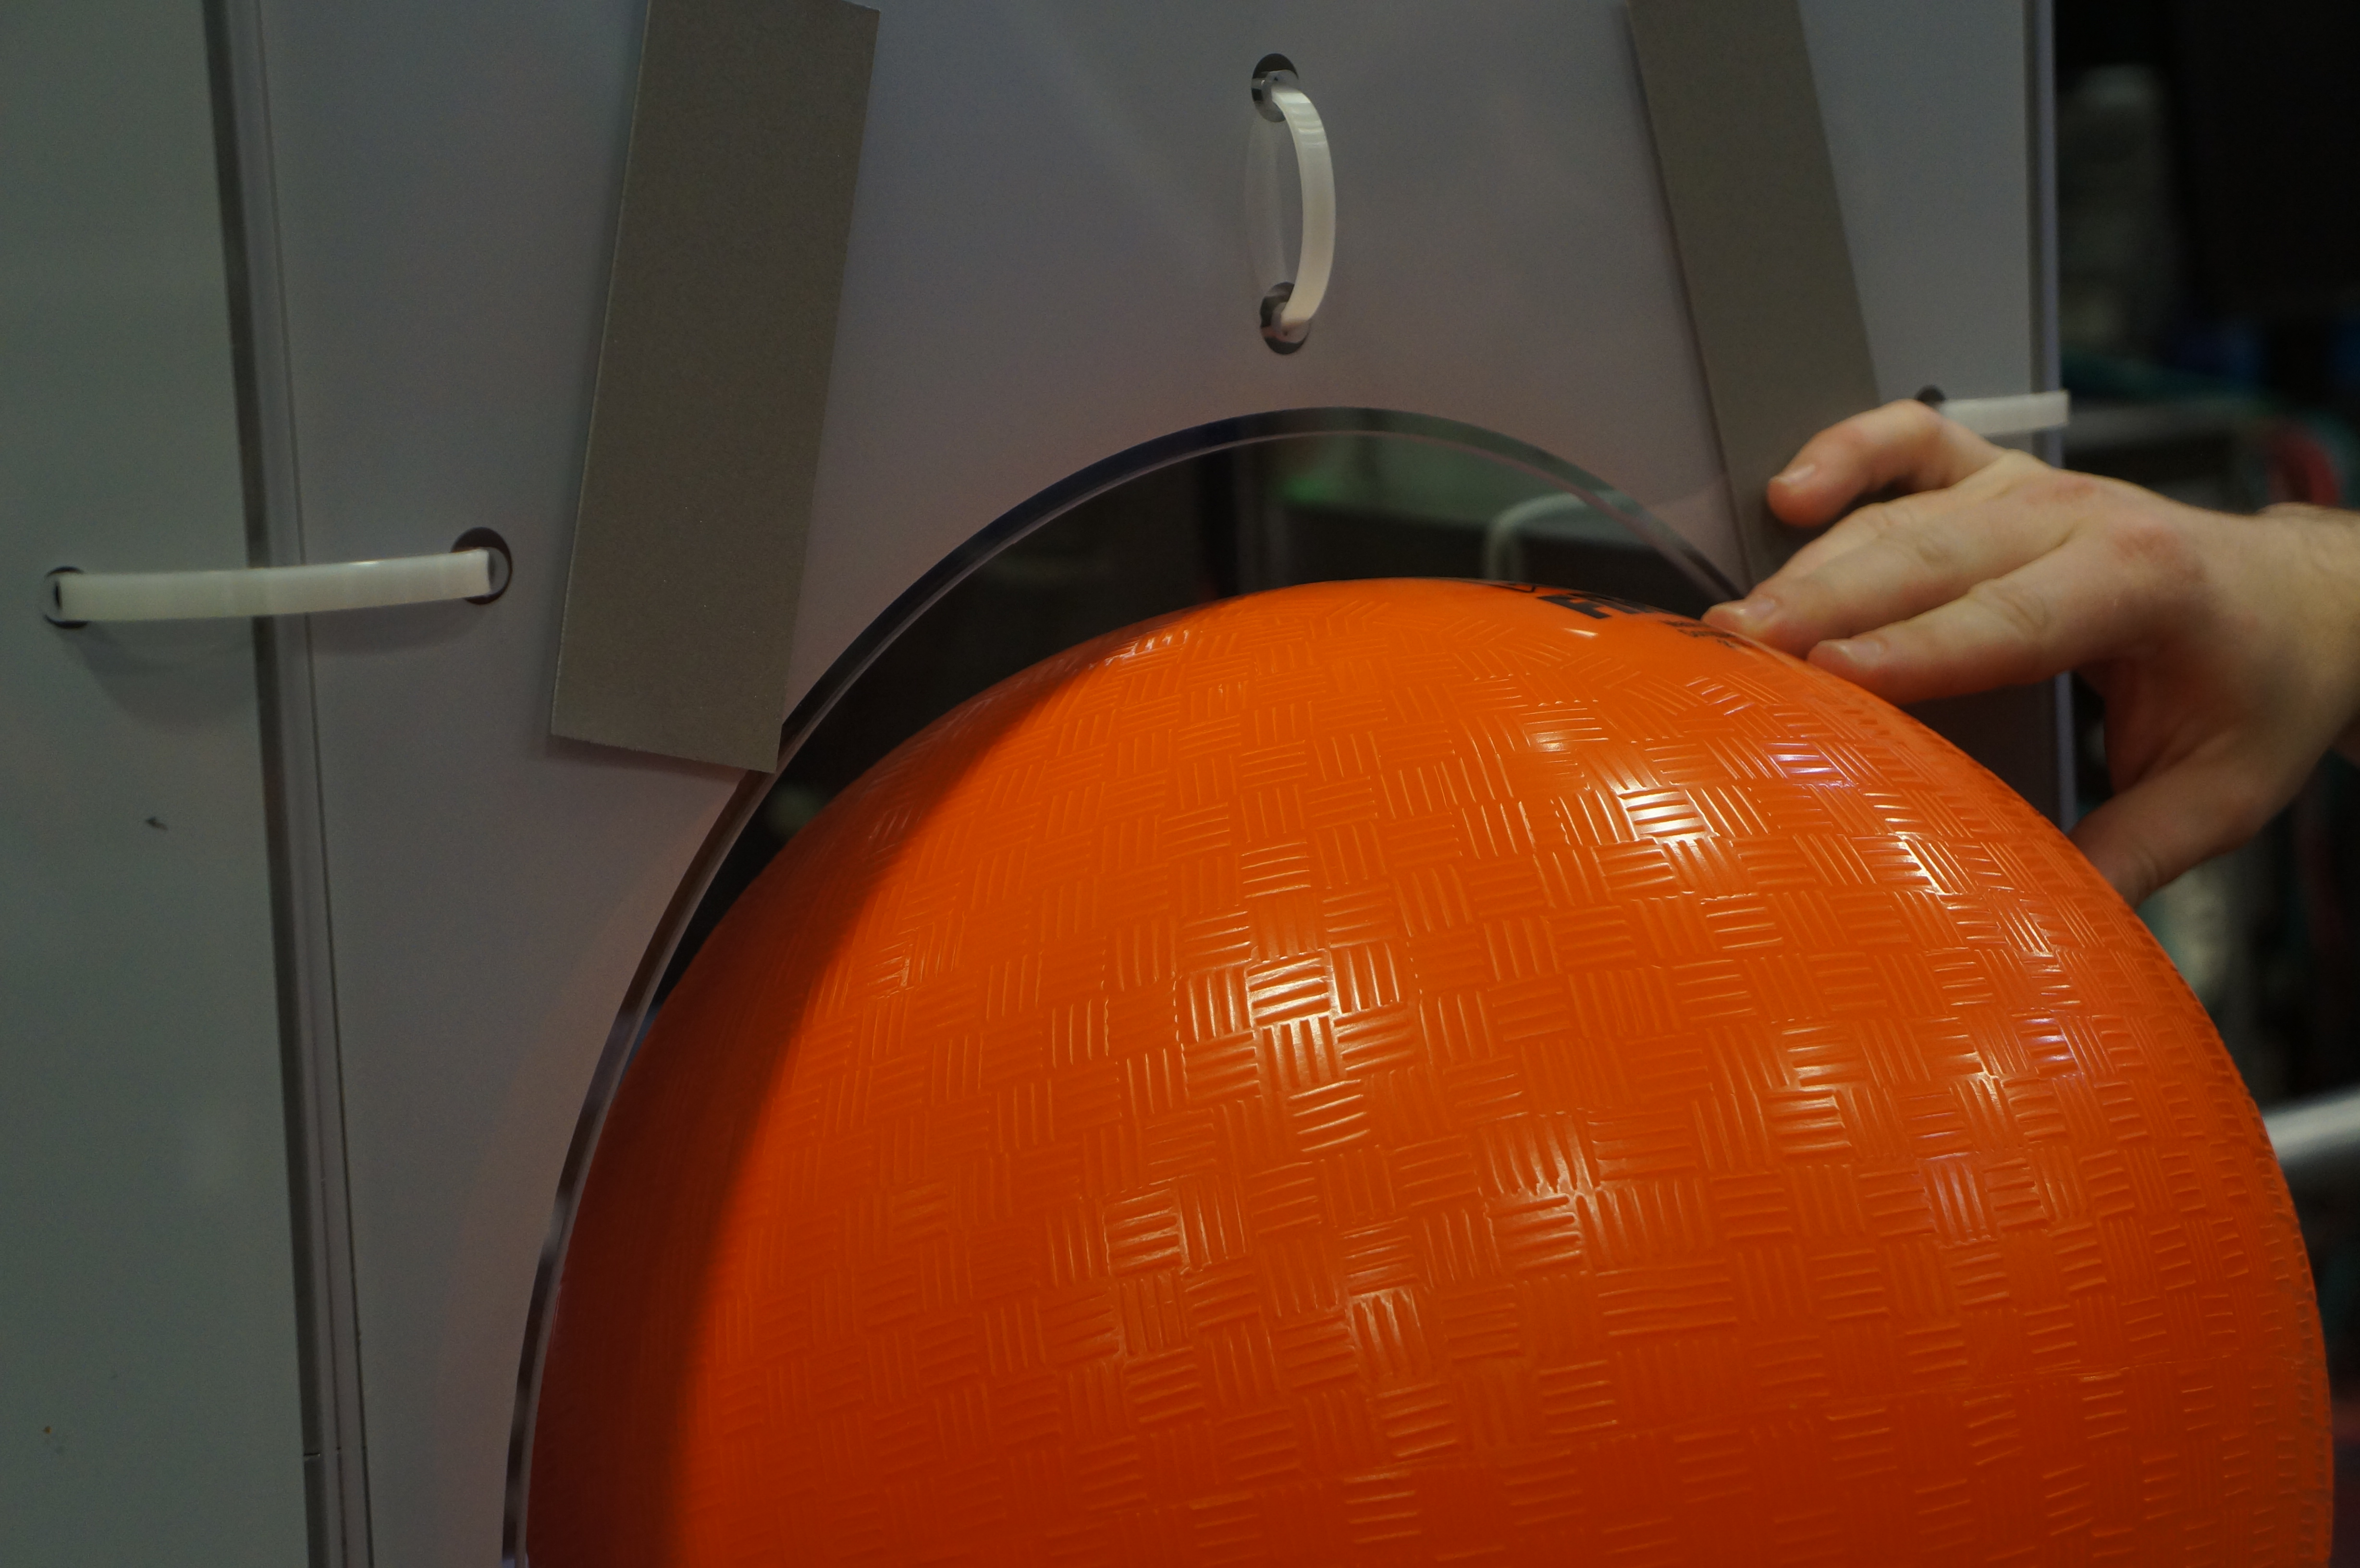Ball: (520, 579, 2336, 1568)
Tape: (551, 0, 894, 775), (1616, 0, 1896, 602)
